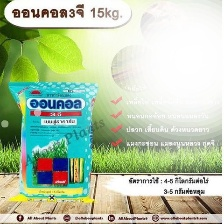insecticide: (5, 79, 100, 205)
